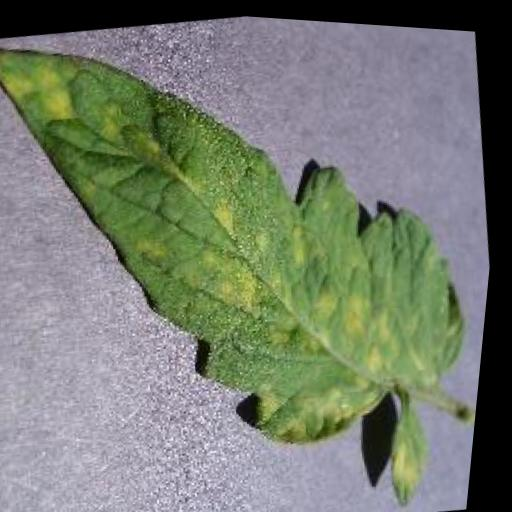Leaf Mold: (0, 0, 509, 490)
